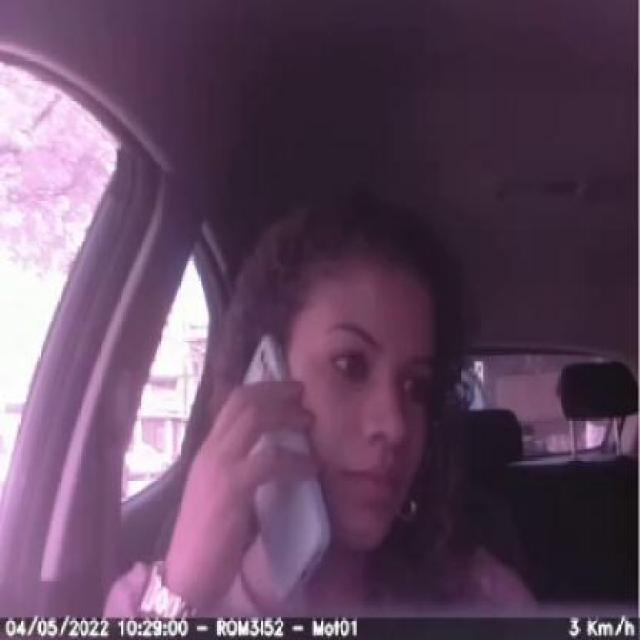using_phone: (140, 317, 351, 607)
